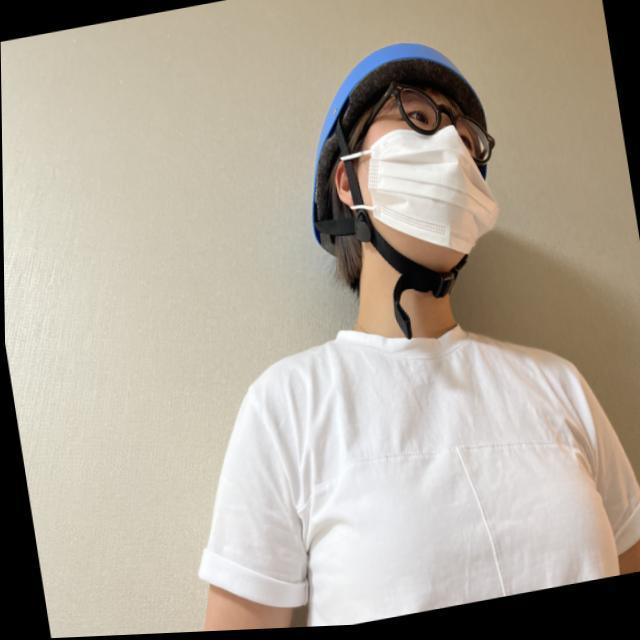Helmet: (308, 43, 502, 295)
